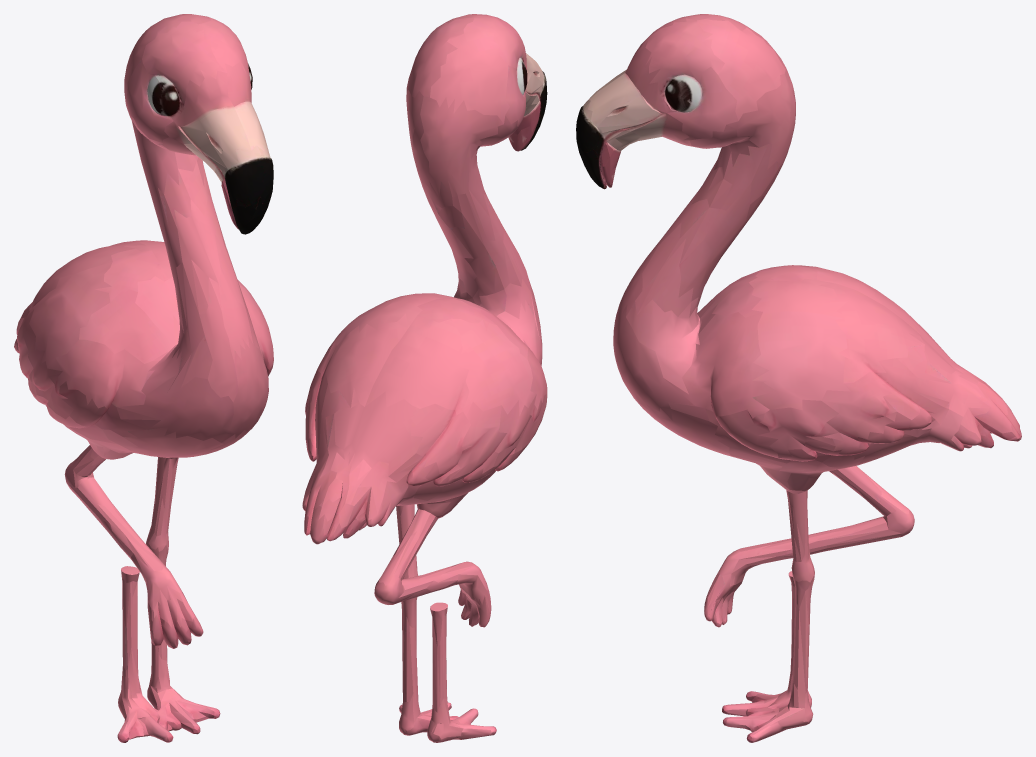
The model's file is pet_rosie.glb.
3 views of the same model, side by side, from view 1: azimuth 30°, elevation 25°; view 2: azimuth 150°, elevation 25°; view 3: azimuth 270°, elevation 25° (orthographic). The views are drawn at different scales.
Bounding box in the file's own units: 0.5655 × 1.9 × 1.09.
1 material, 1 textured.
